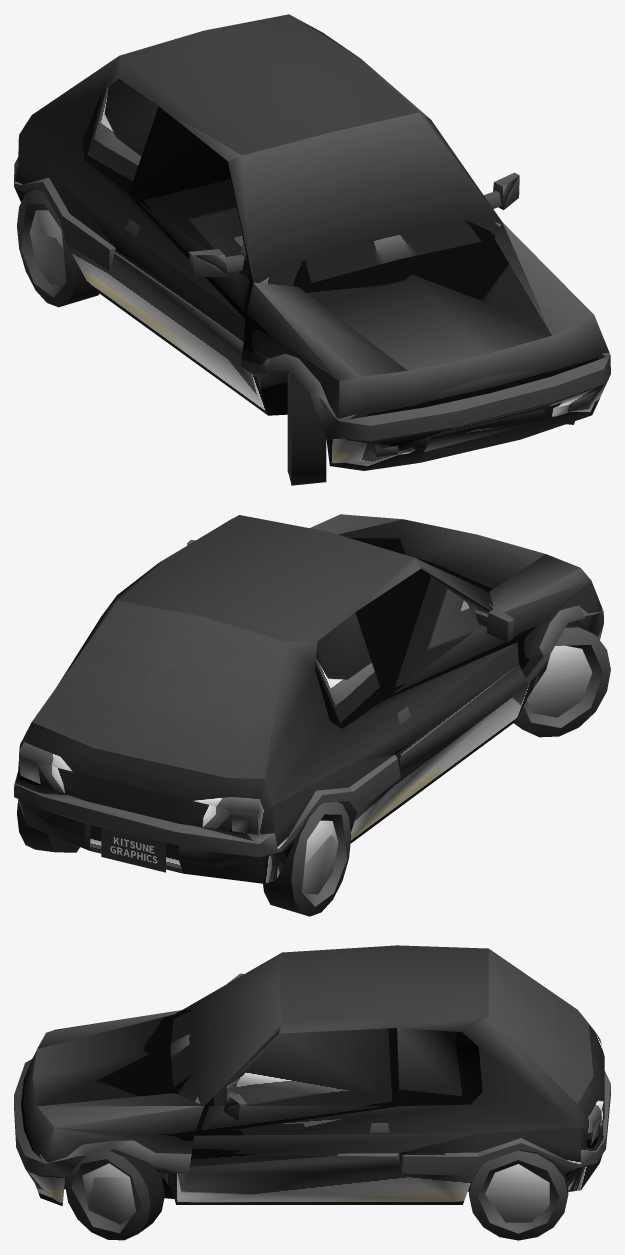
File: car166.glb
3 views of the same model, one above another, from view 1: azimuth 30°, elevation 25°; view 2: azimuth 150°, elevation 25°; view 3: azimuth 270°, elevation 25° (orthographic). The views are drawn at different scales.
Visible parts, largest first — view 1: FLW_Vehicle_0; view 2: FLW_Vehicle_0; view 3: FLW_Vehicle_0.
Boxes of the visible parts, x1,y1,x2,y2 form: FLW_Vehicle_0: (14, 14, 610, 485); FLW_Vehicle_0: (14, 514, 610, 916); FLW_Vehicle_0: (14, 945, 610, 1240).
Bounding box in the file's own units: 1.26 × 0.9299 × 2.43.
1 material, 1 textured.
